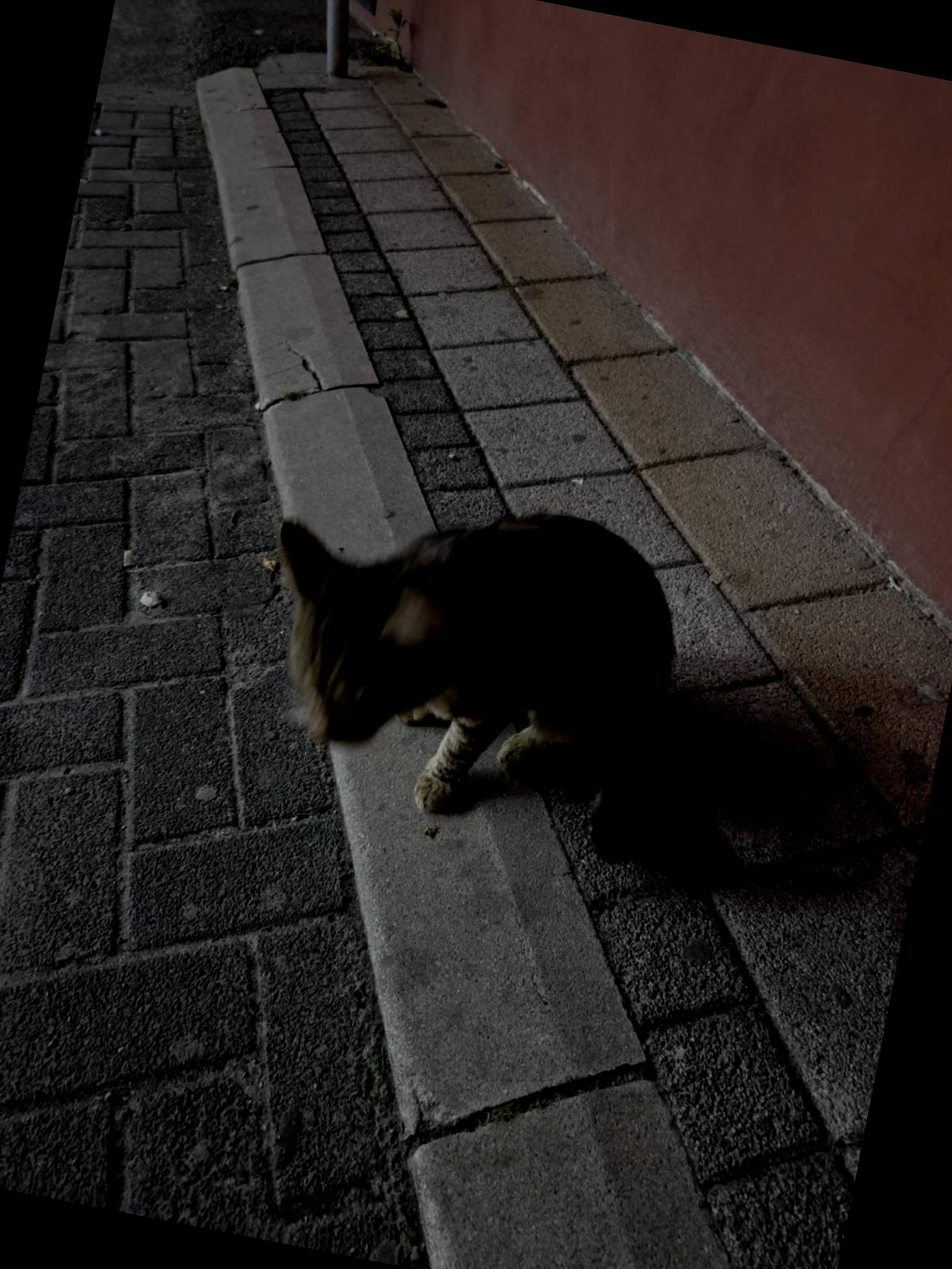macka: (230, 458, 707, 869)
